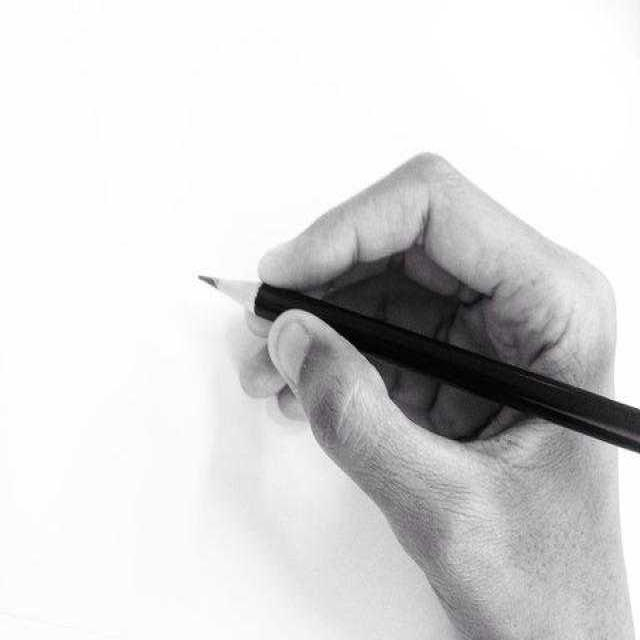pencil: (163, 256, 639, 476)
